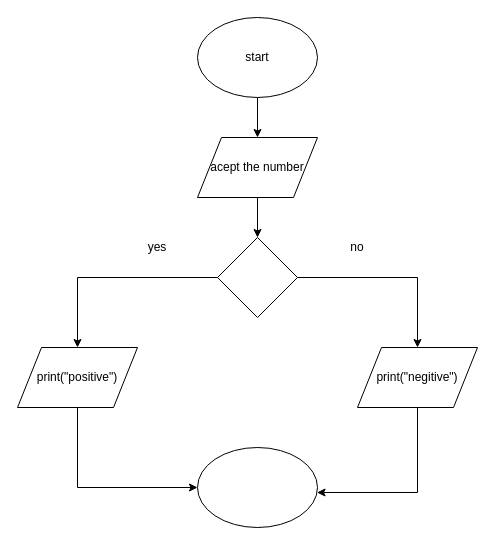
Image size: 495x545. Some labels were removed from this diagram. Here are the shapes that lost their labels. From the top down, the box of each, then its label:
(216, 236, 298, 318): if number>=0
(196, 446, 318, 528): stop
